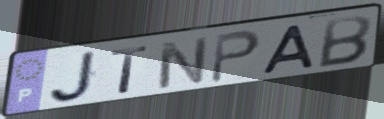A: (259, 22, 317, 77)
B: (315, 13, 374, 69)
J: (47, 49, 100, 105)
N: (156, 35, 210, 91)
P: (208, 28, 263, 86)
T: (109, 44, 151, 96)
